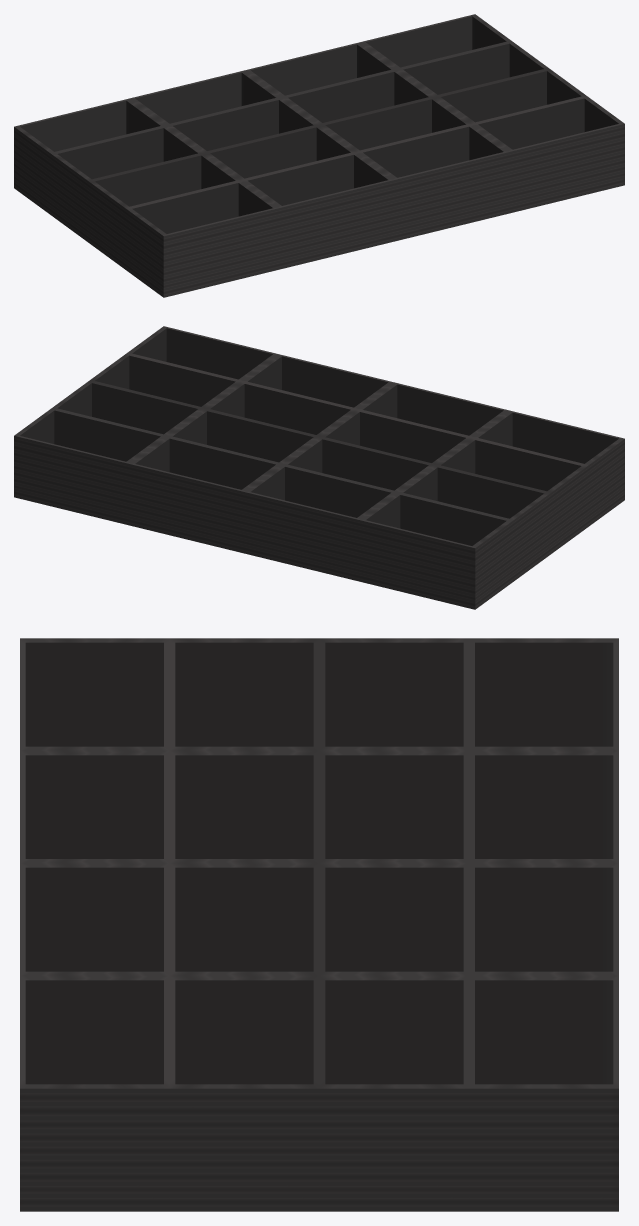
File: ScrewTray.FBX
3 renders of one model, top to bottom at view 1: azimuth 30°, elevation 25°; view 2: azimuth 150°, elevation 25°; view 3: azimuth 270°, elevation 25°, orthographic. The views are drawn at different scales.
Parts seen in each view (by area): view 1: Box001; view 2: Box001; view 3: Box001.
Boxes of the visible parts, x1,y1,x2,y2 form: Box001: (14,14,624,297); Box001: (14,326,624,609); Box001: (20,638,618,1211).
Bounding box in the file's own units: 0.4427 × 0.0565 × 0.249.
1 material, 1 textured.
